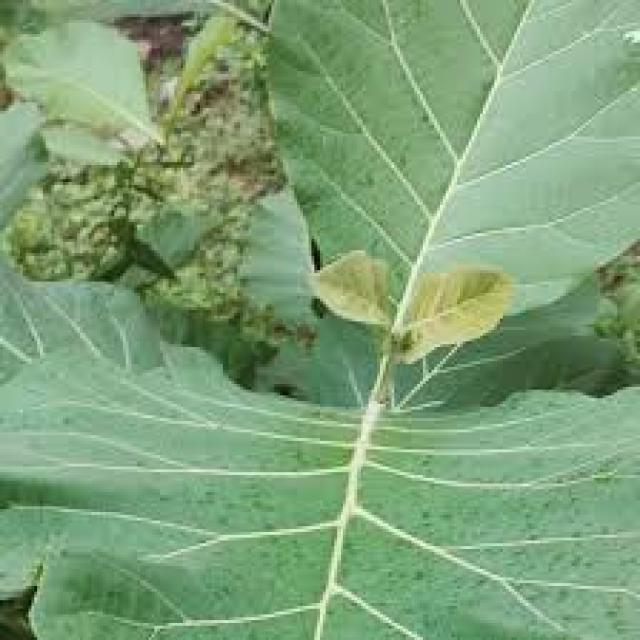healthy_leaf: (33, 24, 602, 606)
